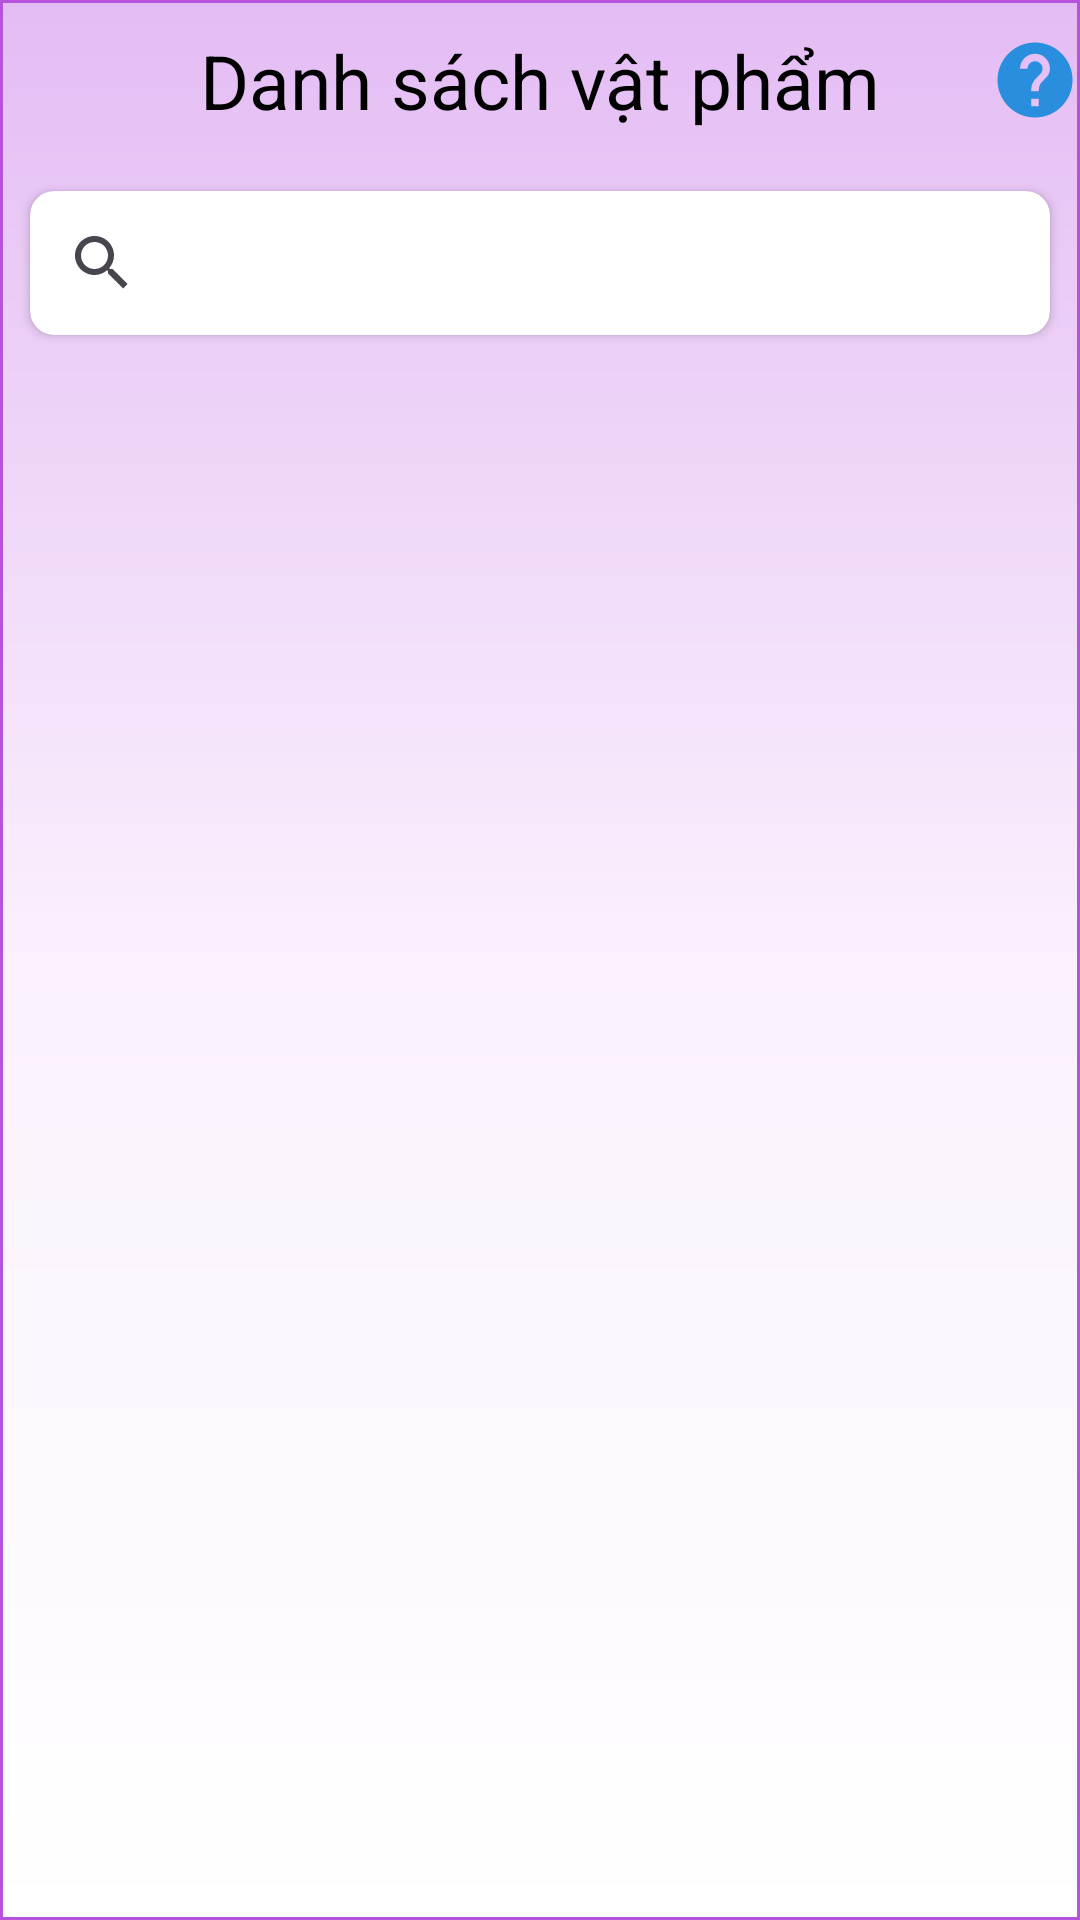

Where to tap for icons on this 1080w x 1920h app screen, as (x,y):
help: (1035,80)
